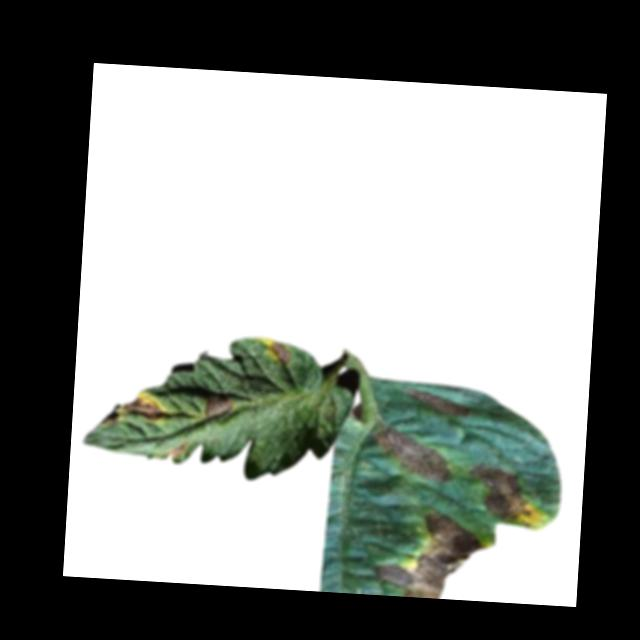Early_blight: (372, 509, 488, 600), (371, 424, 458, 488), (468, 462, 537, 523), (408, 384, 471, 419), (123, 391, 165, 426), (204, 396, 239, 420), (266, 341, 294, 366), (166, 442, 190, 462)
